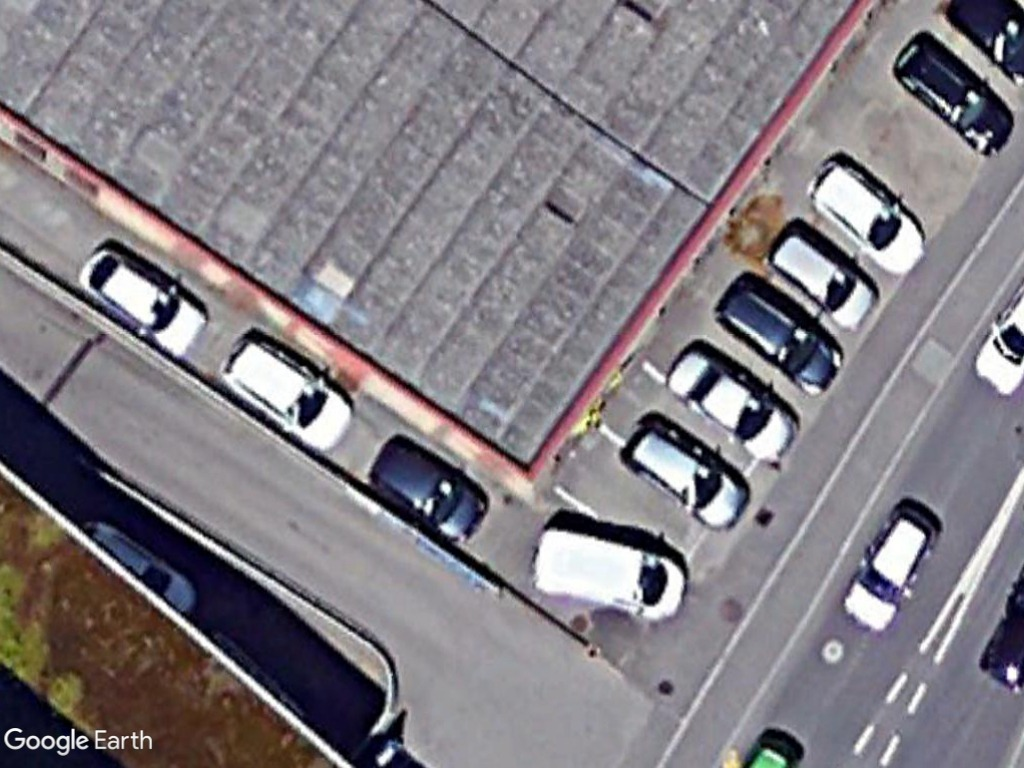car: (658, 342, 800, 466), (804, 151, 934, 282), (74, 236, 209, 359), (219, 331, 356, 451), (894, 31, 1018, 159), (616, 423, 754, 535), (715, 282, 850, 395), (840, 501, 943, 636), (370, 434, 493, 543), (770, 229, 883, 335)
van: (528, 519, 686, 625)
